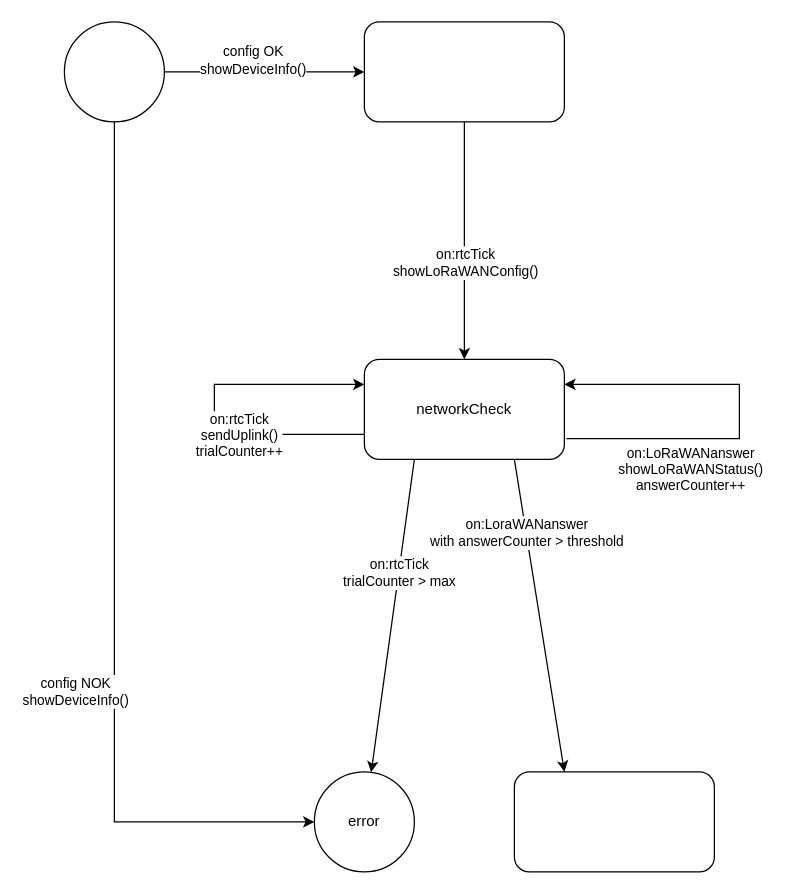
This 785x894 diagram has some shape labels left out. Each missing label, with the centre of its shape:
"boot" belongs at (463,71).
"idle" belongs at (613,821).
